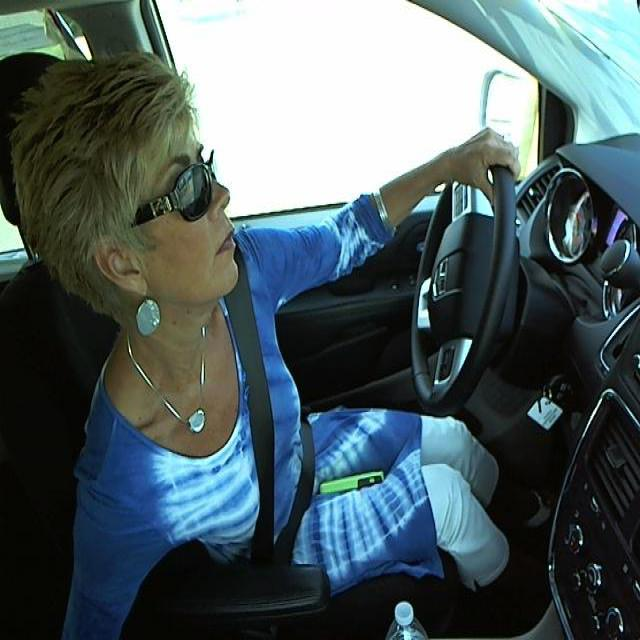seatbelt: (232, 294, 331, 558)
